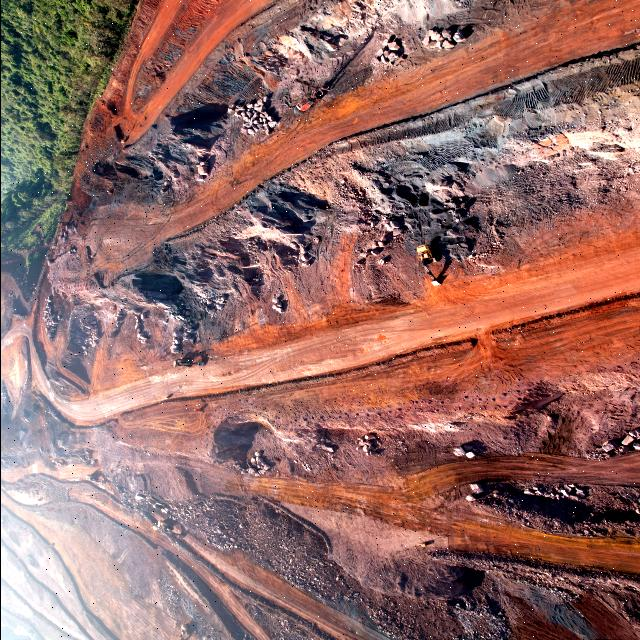Blast rig: (290, 78, 332, 115)
Excavator: (415, 244, 442, 286), (154, 518, 183, 538), (172, 357, 204, 368), (176, 623, 192, 640), (84, 473, 105, 484)
